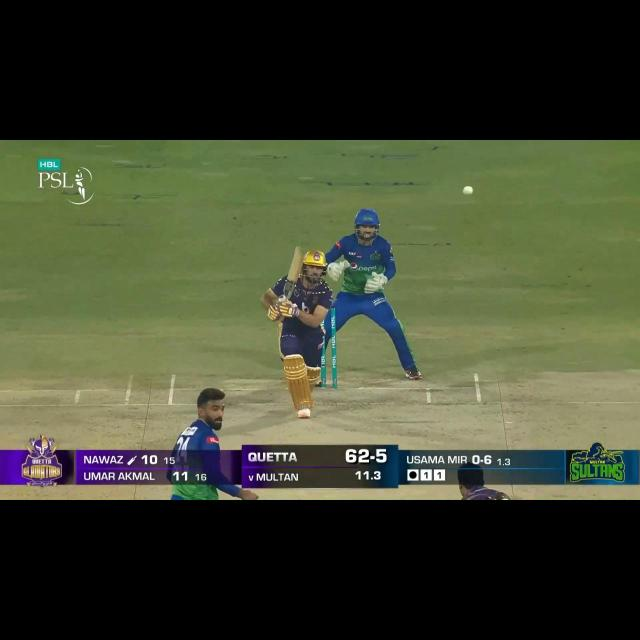bat: (282, 244, 307, 299)
toe: (293, 246, 306, 257)
